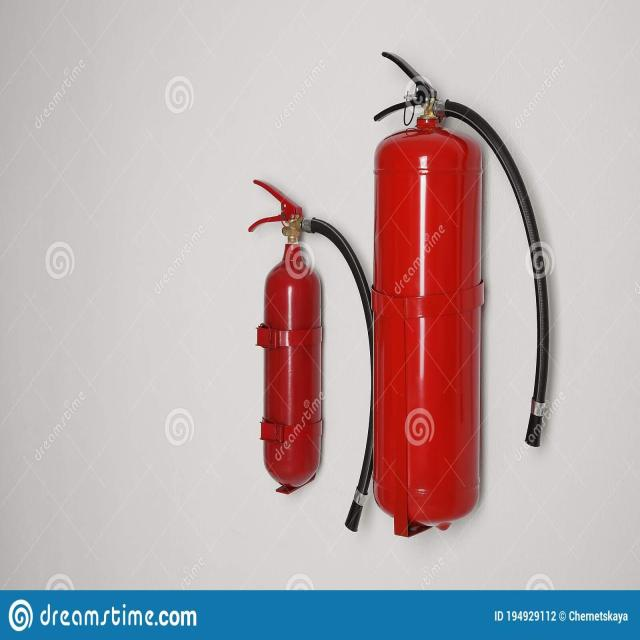fire_extinguisher: (369, 47, 553, 532), (244, 176, 386, 540)
